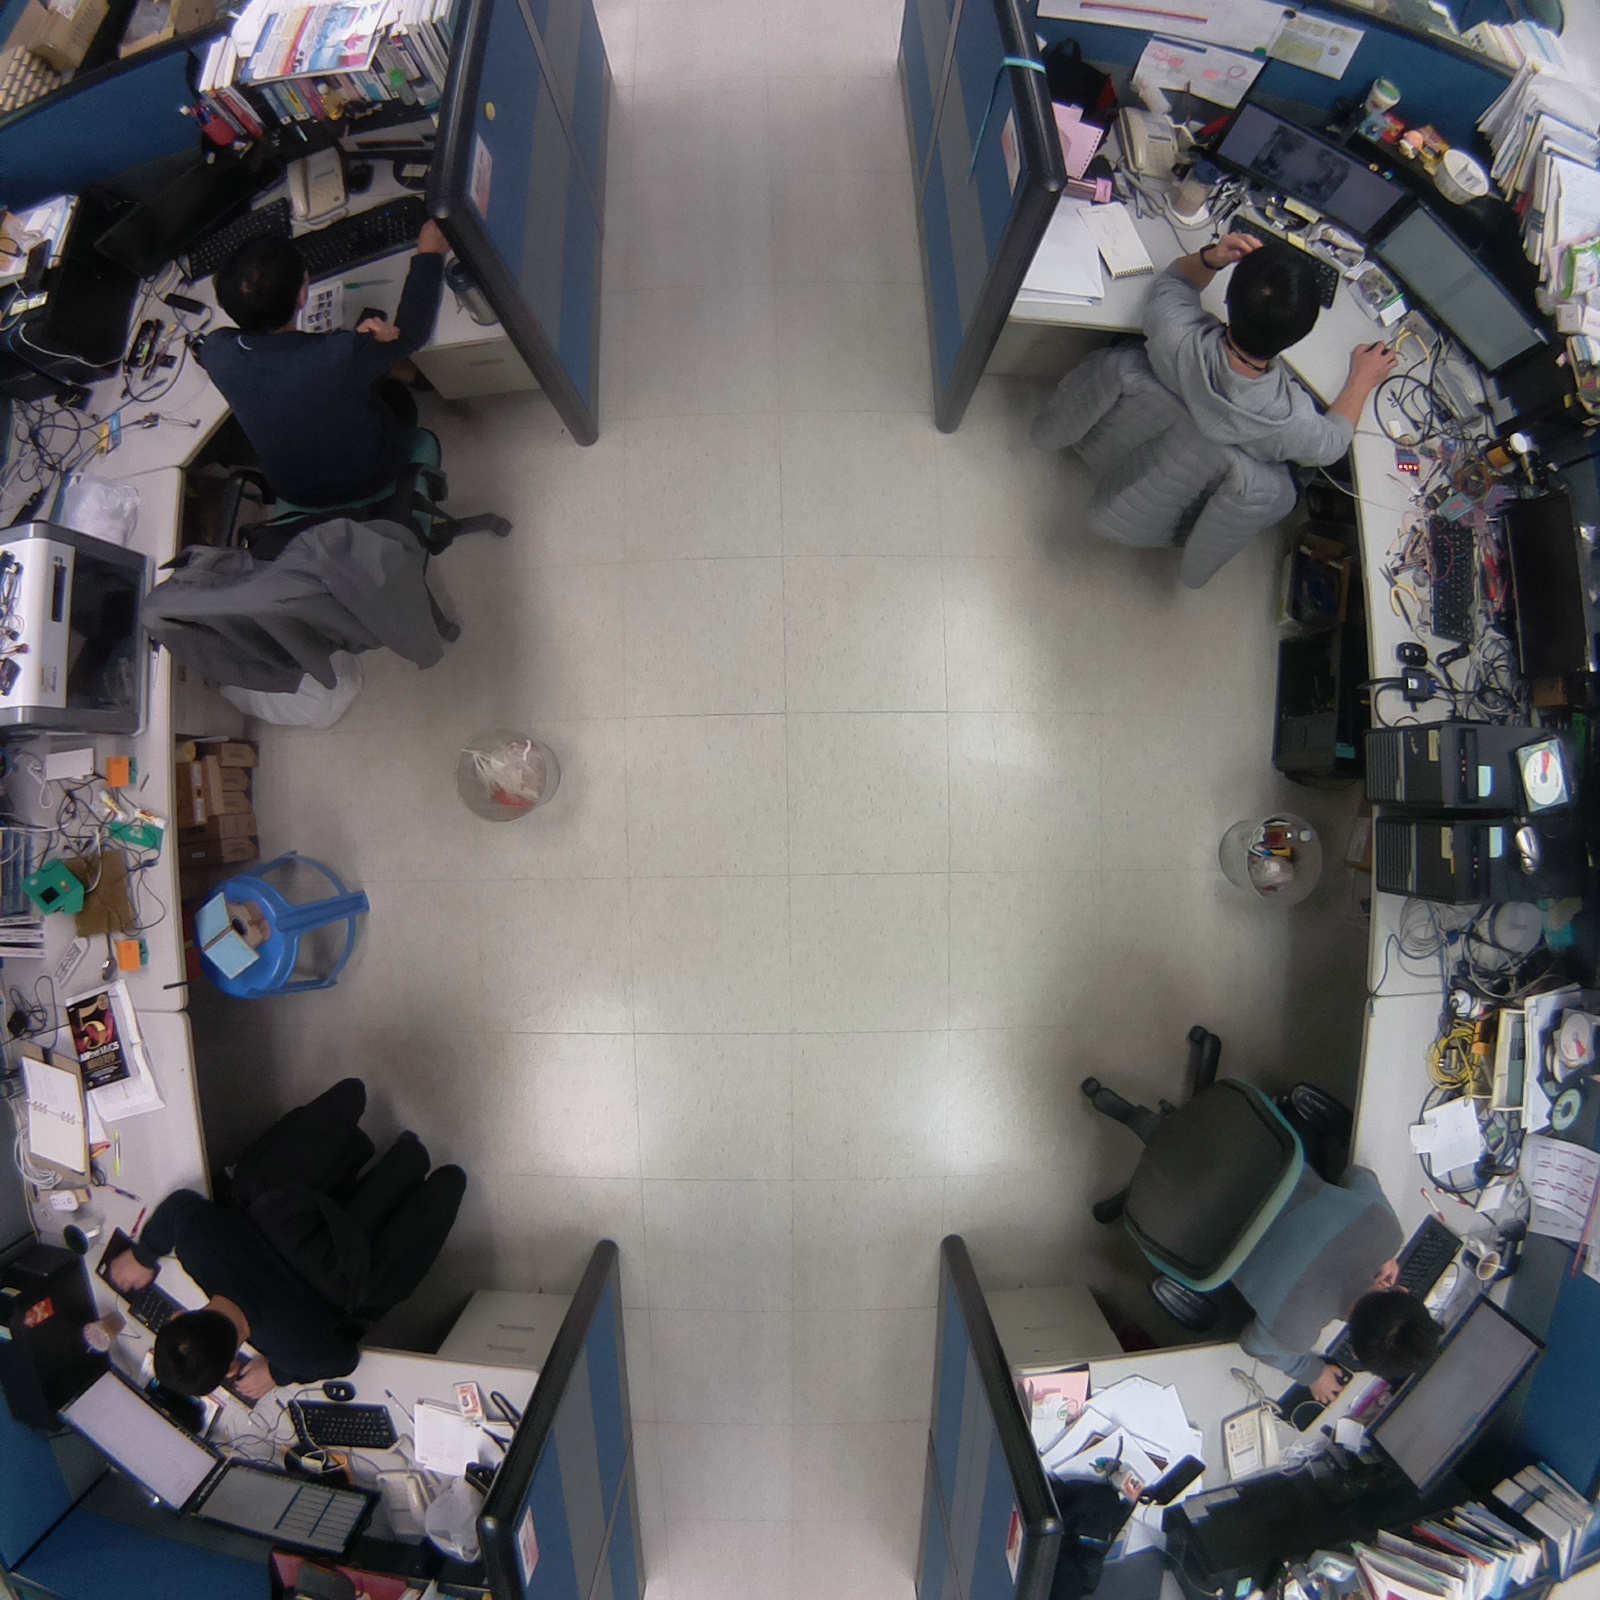head: (1212, 234, 1334, 370), (140, 1289, 261, 1408), (204, 223, 319, 340), (1340, 1280, 1449, 1393)
sitting: (117, 209, 524, 714), (1050, 993, 1468, 1407), (1004, 216, 1401, 604), (94, 1052, 488, 1420)
